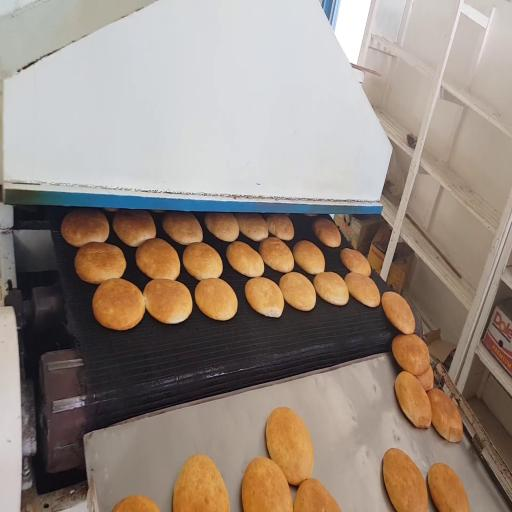bread: (266, 408, 314, 485), (173, 455, 229, 511), (383, 448, 428, 511), (242, 458, 293, 511), (93, 279, 145, 330), (144, 279, 192, 323), (75, 242, 126, 283), (395, 372, 431, 428), (428, 464, 469, 511), (427, 389, 463, 442), (61, 209, 109, 247), (136, 238, 180, 279), (195, 278, 237, 320), (245, 277, 284, 317), (392, 334, 430, 375), (113, 210, 156, 246), (294, 479, 341, 511), (183, 243, 222, 280), (279, 272, 316, 310), (382, 292, 415, 334), (227, 241, 264, 277), (163, 212, 202, 245), (259, 237, 294, 273), (345, 273, 380, 307), (314, 272, 349, 305), (293, 241, 325, 274), (205, 213, 239, 242), (236, 214, 268, 241), (341, 248, 371, 276), (314, 217, 341, 247), (266, 214, 294, 241), (113, 495, 159, 511), (417, 366, 434, 391), (103, 208, 118, 212), (151, 210, 165, 213), (304, 214, 318, 217)
